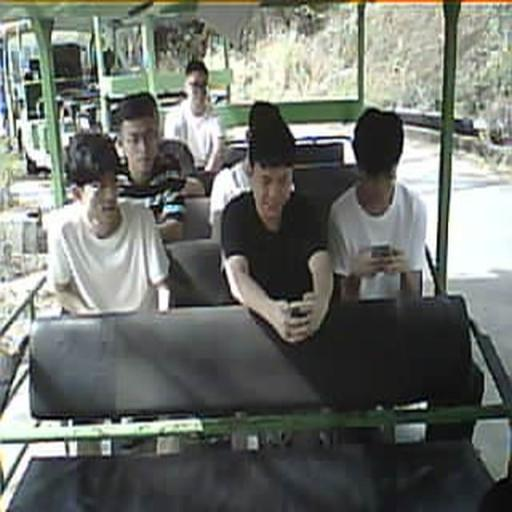persona: (218, 111, 334, 343), (46, 131, 174, 316), (326, 106, 428, 303), (109, 91, 188, 240), (208, 100, 283, 240), (162, 60, 226, 174), (139, 92, 207, 198)
